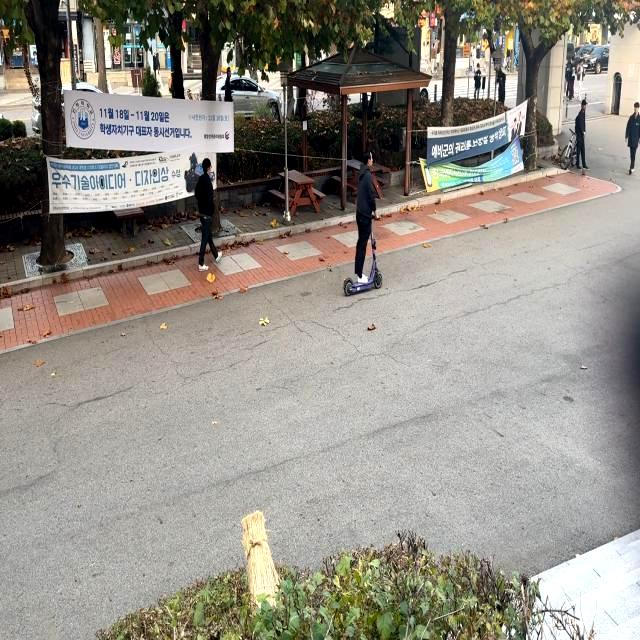bare_head: (352, 143, 383, 172)
human: (344, 138, 375, 282)
kickboard: (329, 269, 402, 291)
